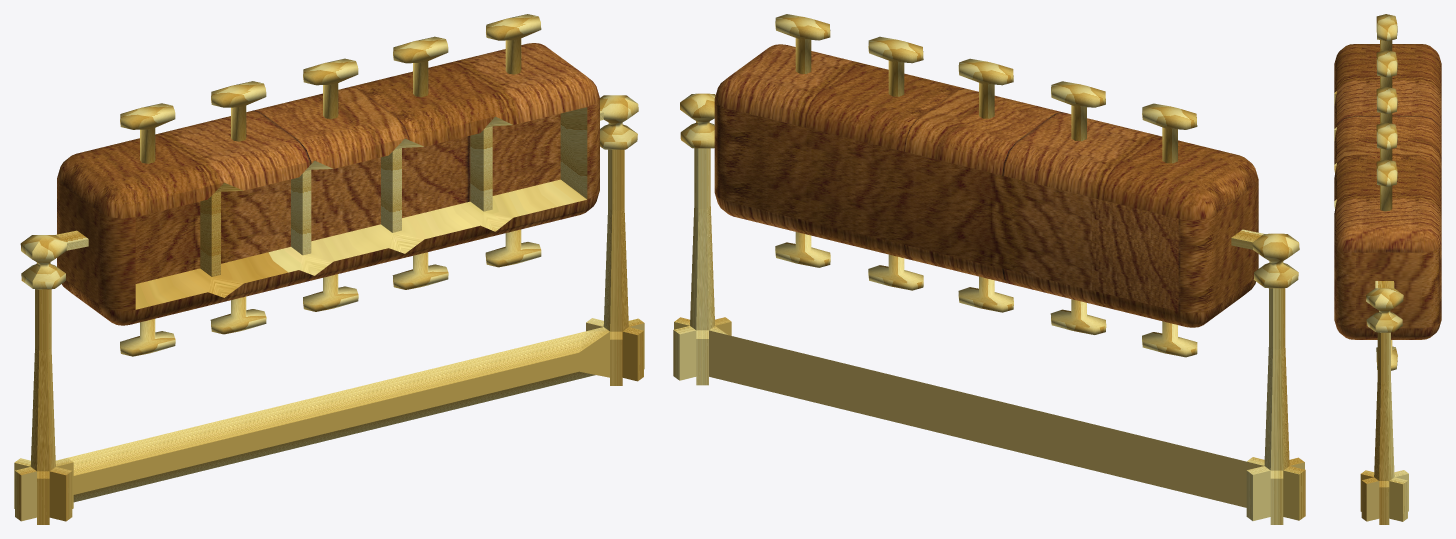
File: desk calendar.FBX
The picture shows the model from 3 angles, left to right: view 1: azimuth 30°, elevation 25°; view 2: azimuth 150°, elevation 25°; view 3: azimuth 270°, elevation 25°; orthographic projection. The views are drawn at different scales.
Visible parts, largest first — view 1: Capsule001; view 2: Capsule001; view 3: Capsule001.
Part boxes in pixels (x1,y1,x2,y2): Capsule001: (14,14,644,524); Capsule001: (673,14,1305,524); Capsule001: (1334,14,1441,524).
Size of the model in its own units: 154 by 88.91 by 28.32.
2 materials, 2 textured.
